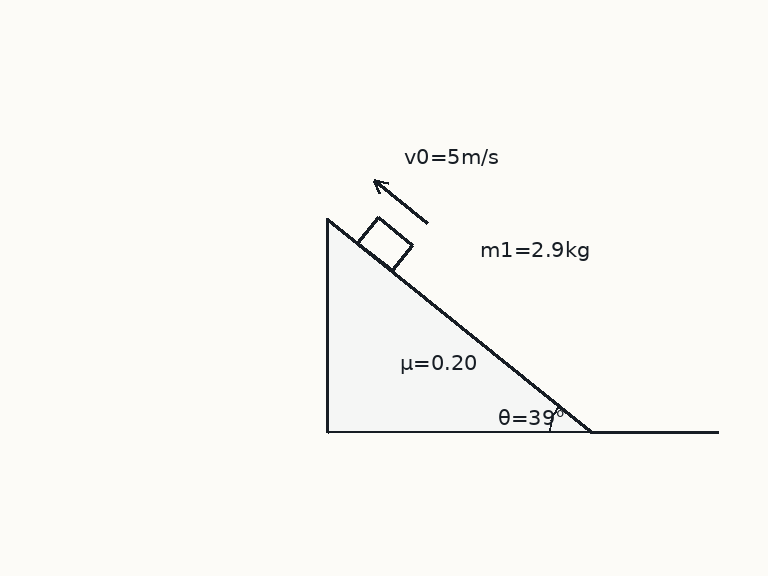block: (355, 215, 414, 272)
ramp: (325, 216, 592, 433)
